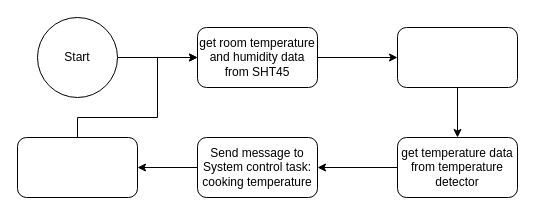
This 535x215 diagram has some shape labels left out. Each missing label, with the centre of its shape:
"Send message to System control task: room temperature and humidity" belongs at [457,57].
"Sleep for 1 second" belongs at [77,167].
